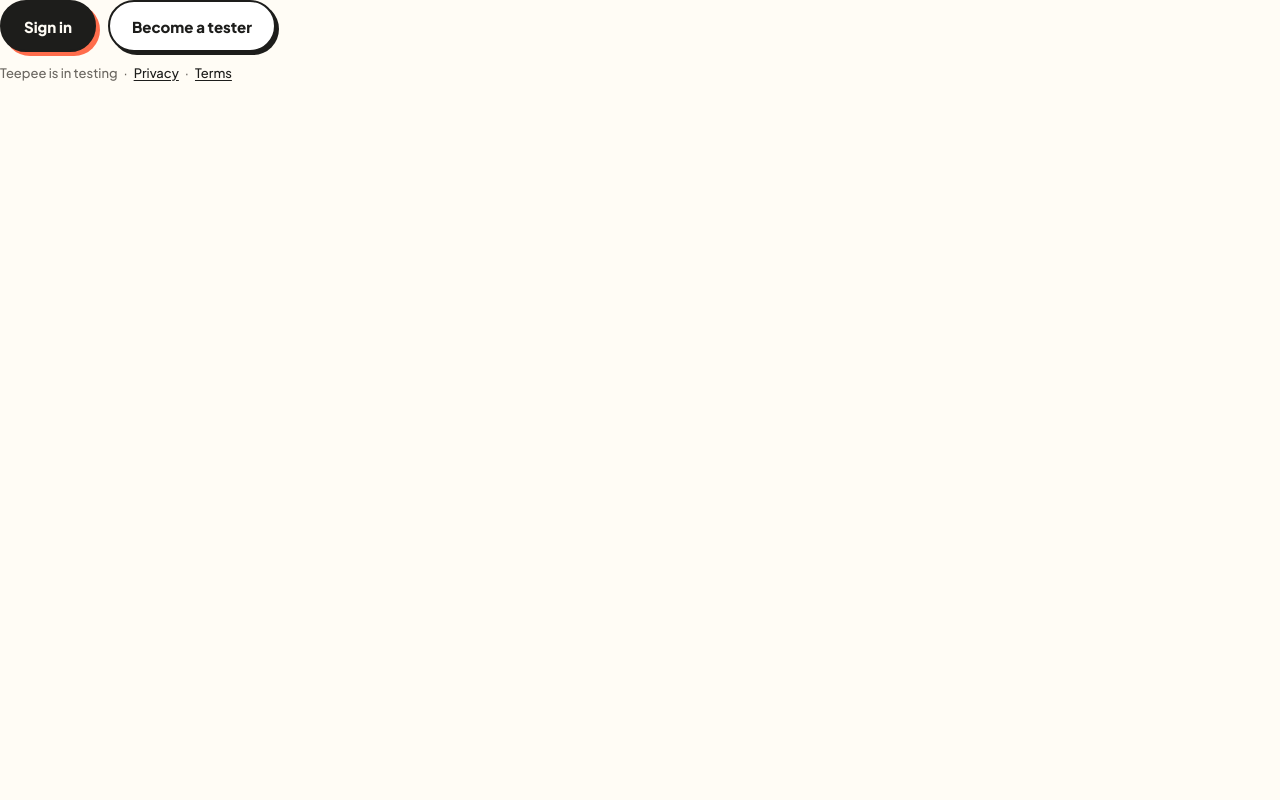
Test: Sign in panel (spec collage §1.1) › Sign in opens 'Come on in' with the testing line and the passed controls, in light mode
The width and height of the screenshot is (1280, 800).
Click the button "Sign in": {"x": 48, "y": 26} [0,0,96,52]
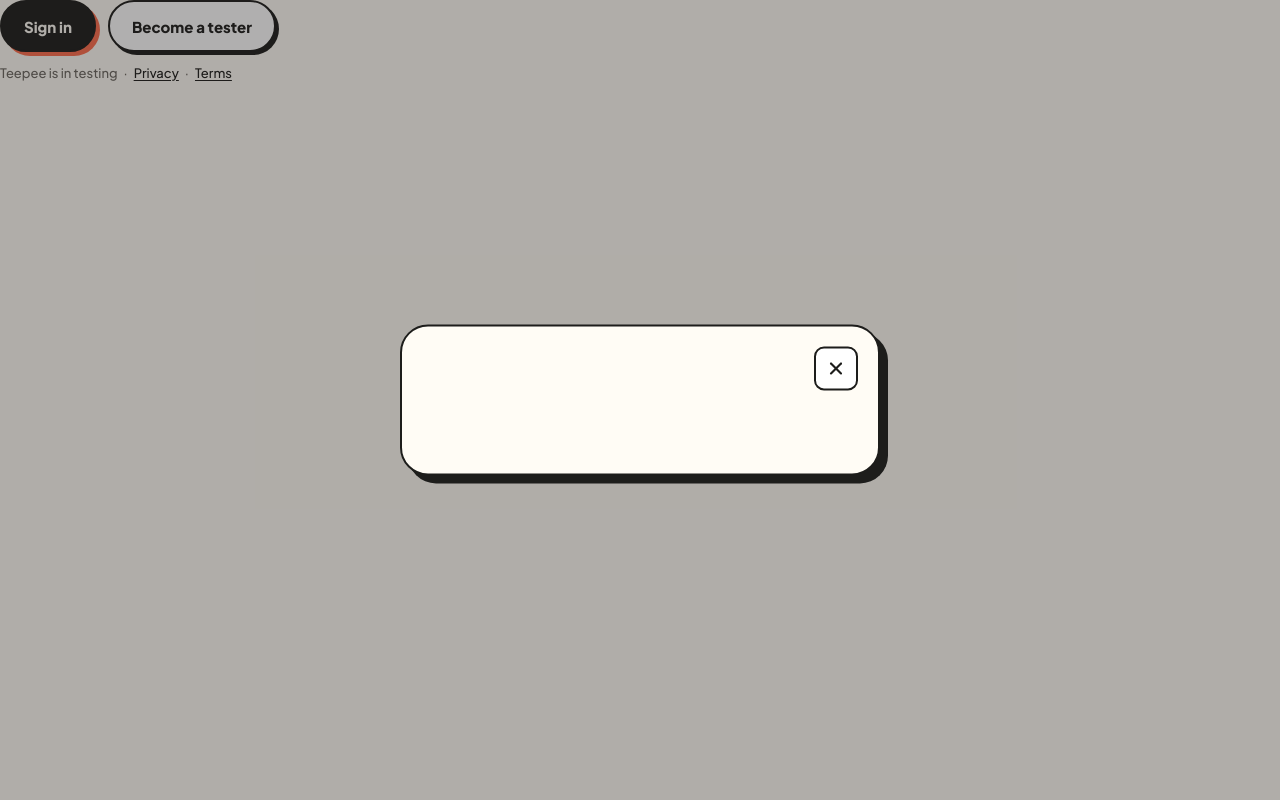
expect the dialog named "Come on in" is shown: met, box [400,324,880,476]
